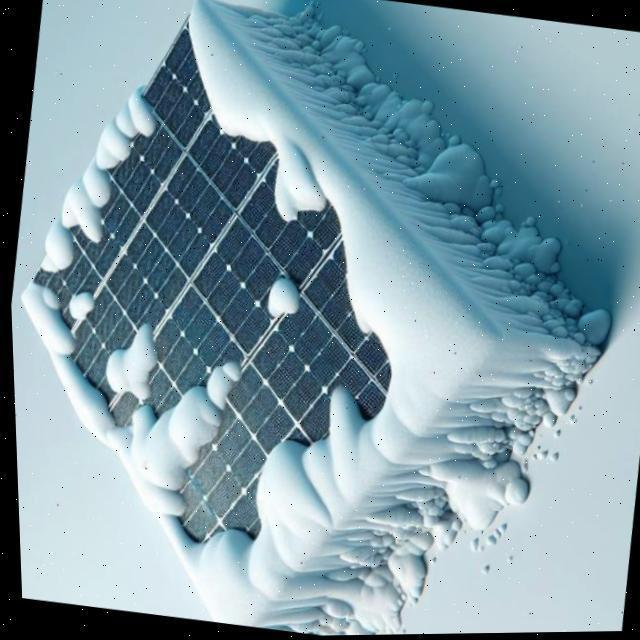Anomaly Solar Panel: (9, 0, 532, 627)
Snow: (9, 0, 533, 627), (33, 89, 162, 287), (96, 316, 159, 400), (261, 274, 300, 322), (63, 290, 95, 322)
